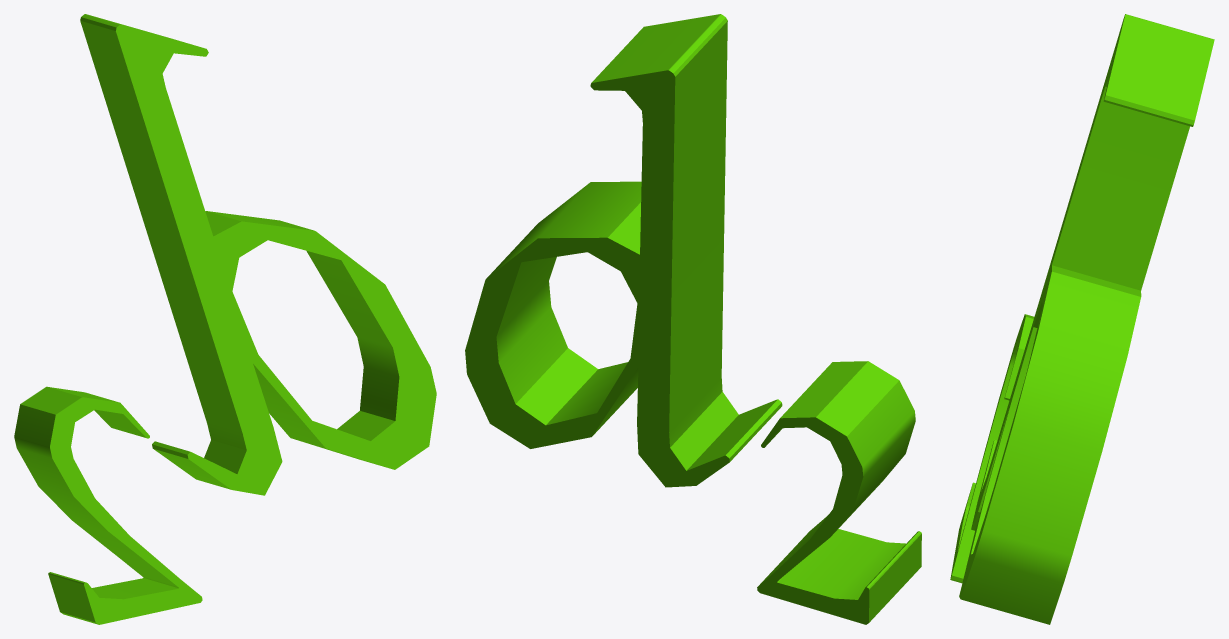
The model's file is d2_formula_C.fbx.
The picture shows the model from 3 angles, left to right: view 1: azimuth 30°, elevation 25°; view 2: azimuth 150°, elevation 25°; view 3: azimuth 270°, elevation 25°; orthographic projection. The views are drawn at different scales.
Visible parts, largest first — view 1: d2_formula_C; view 2: d2_formula_C; view 3: d2_formula_C.
Boxes of the visible parts, x1,y1,x2,y2 form: d2_formula_C: (14,14,436,624); d2_formula_C: (465,14,921,624); d2_formula_C: (950,14,1214,624).
Size of the model in its own units: 2.28 by 3.16 by 1.28.
